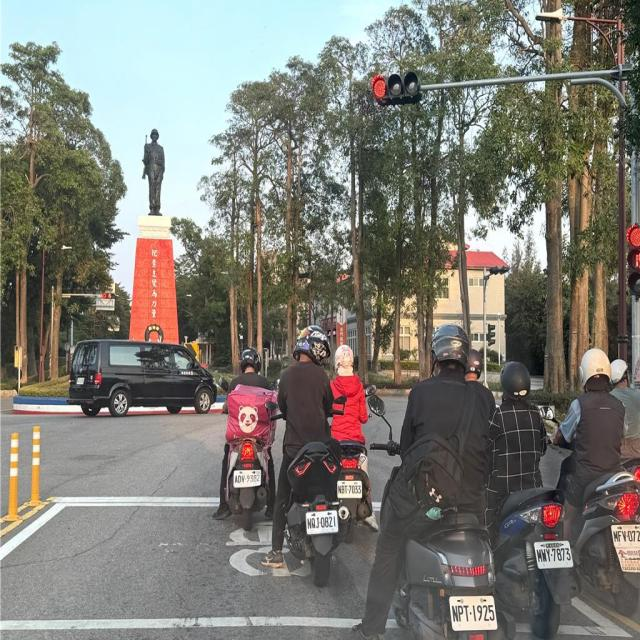red light: (371, 70, 423, 103), (623, 222, 640, 300)
